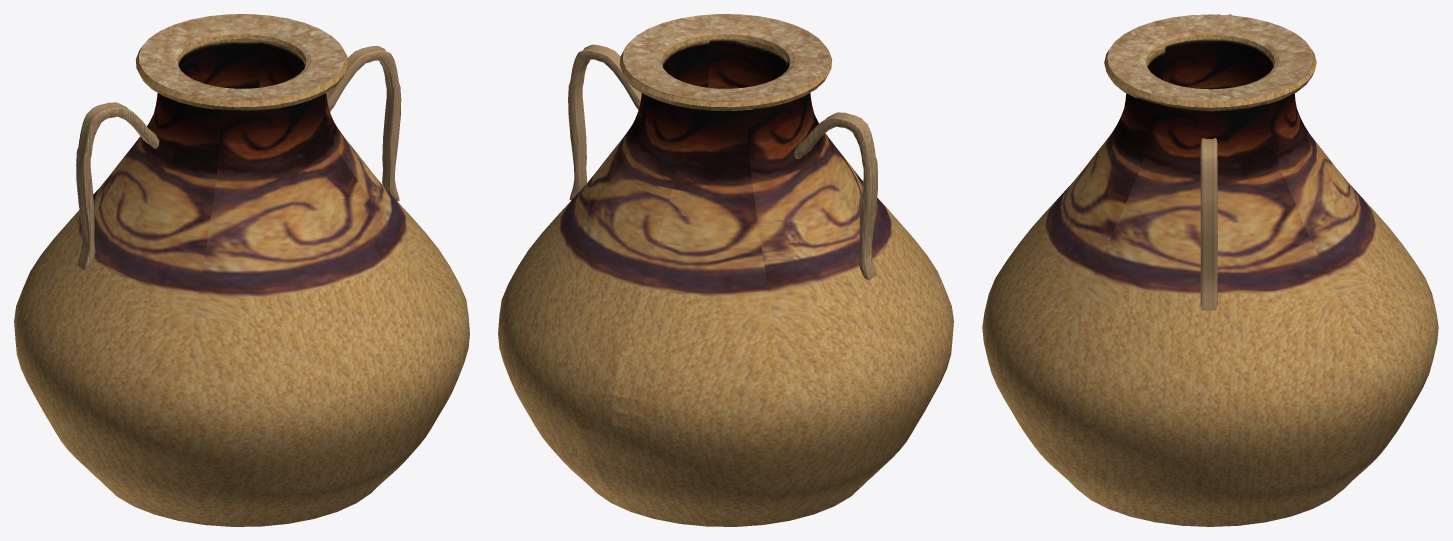
The model's file is wholevase.FBX.
The picture shows the model from 3 angles, left to right: view 1: azimuth 30°, elevation 25°; view 2: azimuth 150°, elevation 25°; view 3: azimuth 270°, elevation 25°; orthographic projection.
Parts seen in each view (by area): view 1: Line010, Line030, Line020; view 2: Line010, Line030, Line020; view 3: Line010, Line020.
Part boxes in pixels (left/top/right/bottom): Line010: left=14, top=14, right=469, bottom=526; Line030: left=76, top=102, right=159, bottom=270; Line020: left=326, top=46, right=401, bottom=201; Line010: left=498, top=14, right=953, bottom=526; Line030: left=794, top=112, right=877, bottom=280; Line020: left=568, top=44, right=641, bottom=200; Line010: left=982, top=14, right=1438, bottom=526; Line020: left=1200, top=138, right=1217, bottom=310.
Size of the model in its own units: 2321 by 2294 by 2321.
